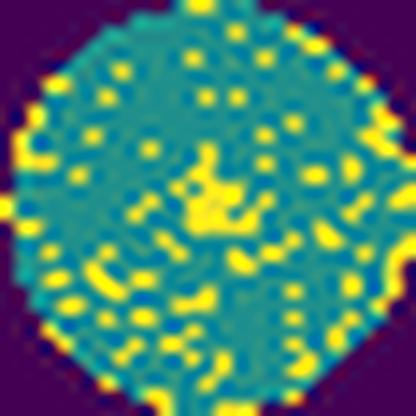Center: (168, 140, 282, 238)
